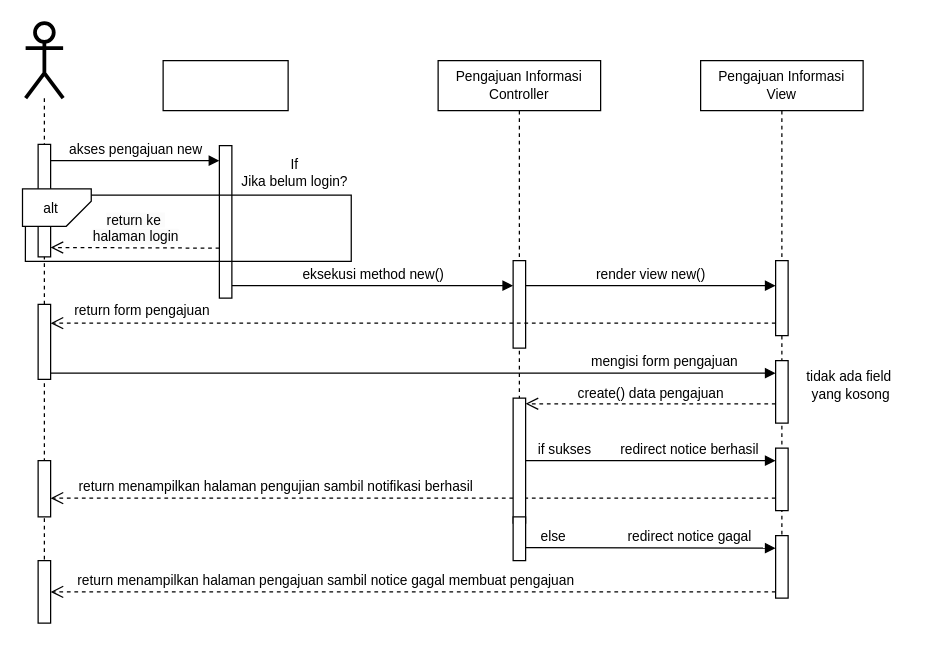
Image size: 928x646. Some labels were removed from this diagram. Here are the shapes that lost their labels. From the top down, the centre of each, then its label:
(43,60): User
(225,85): Route
